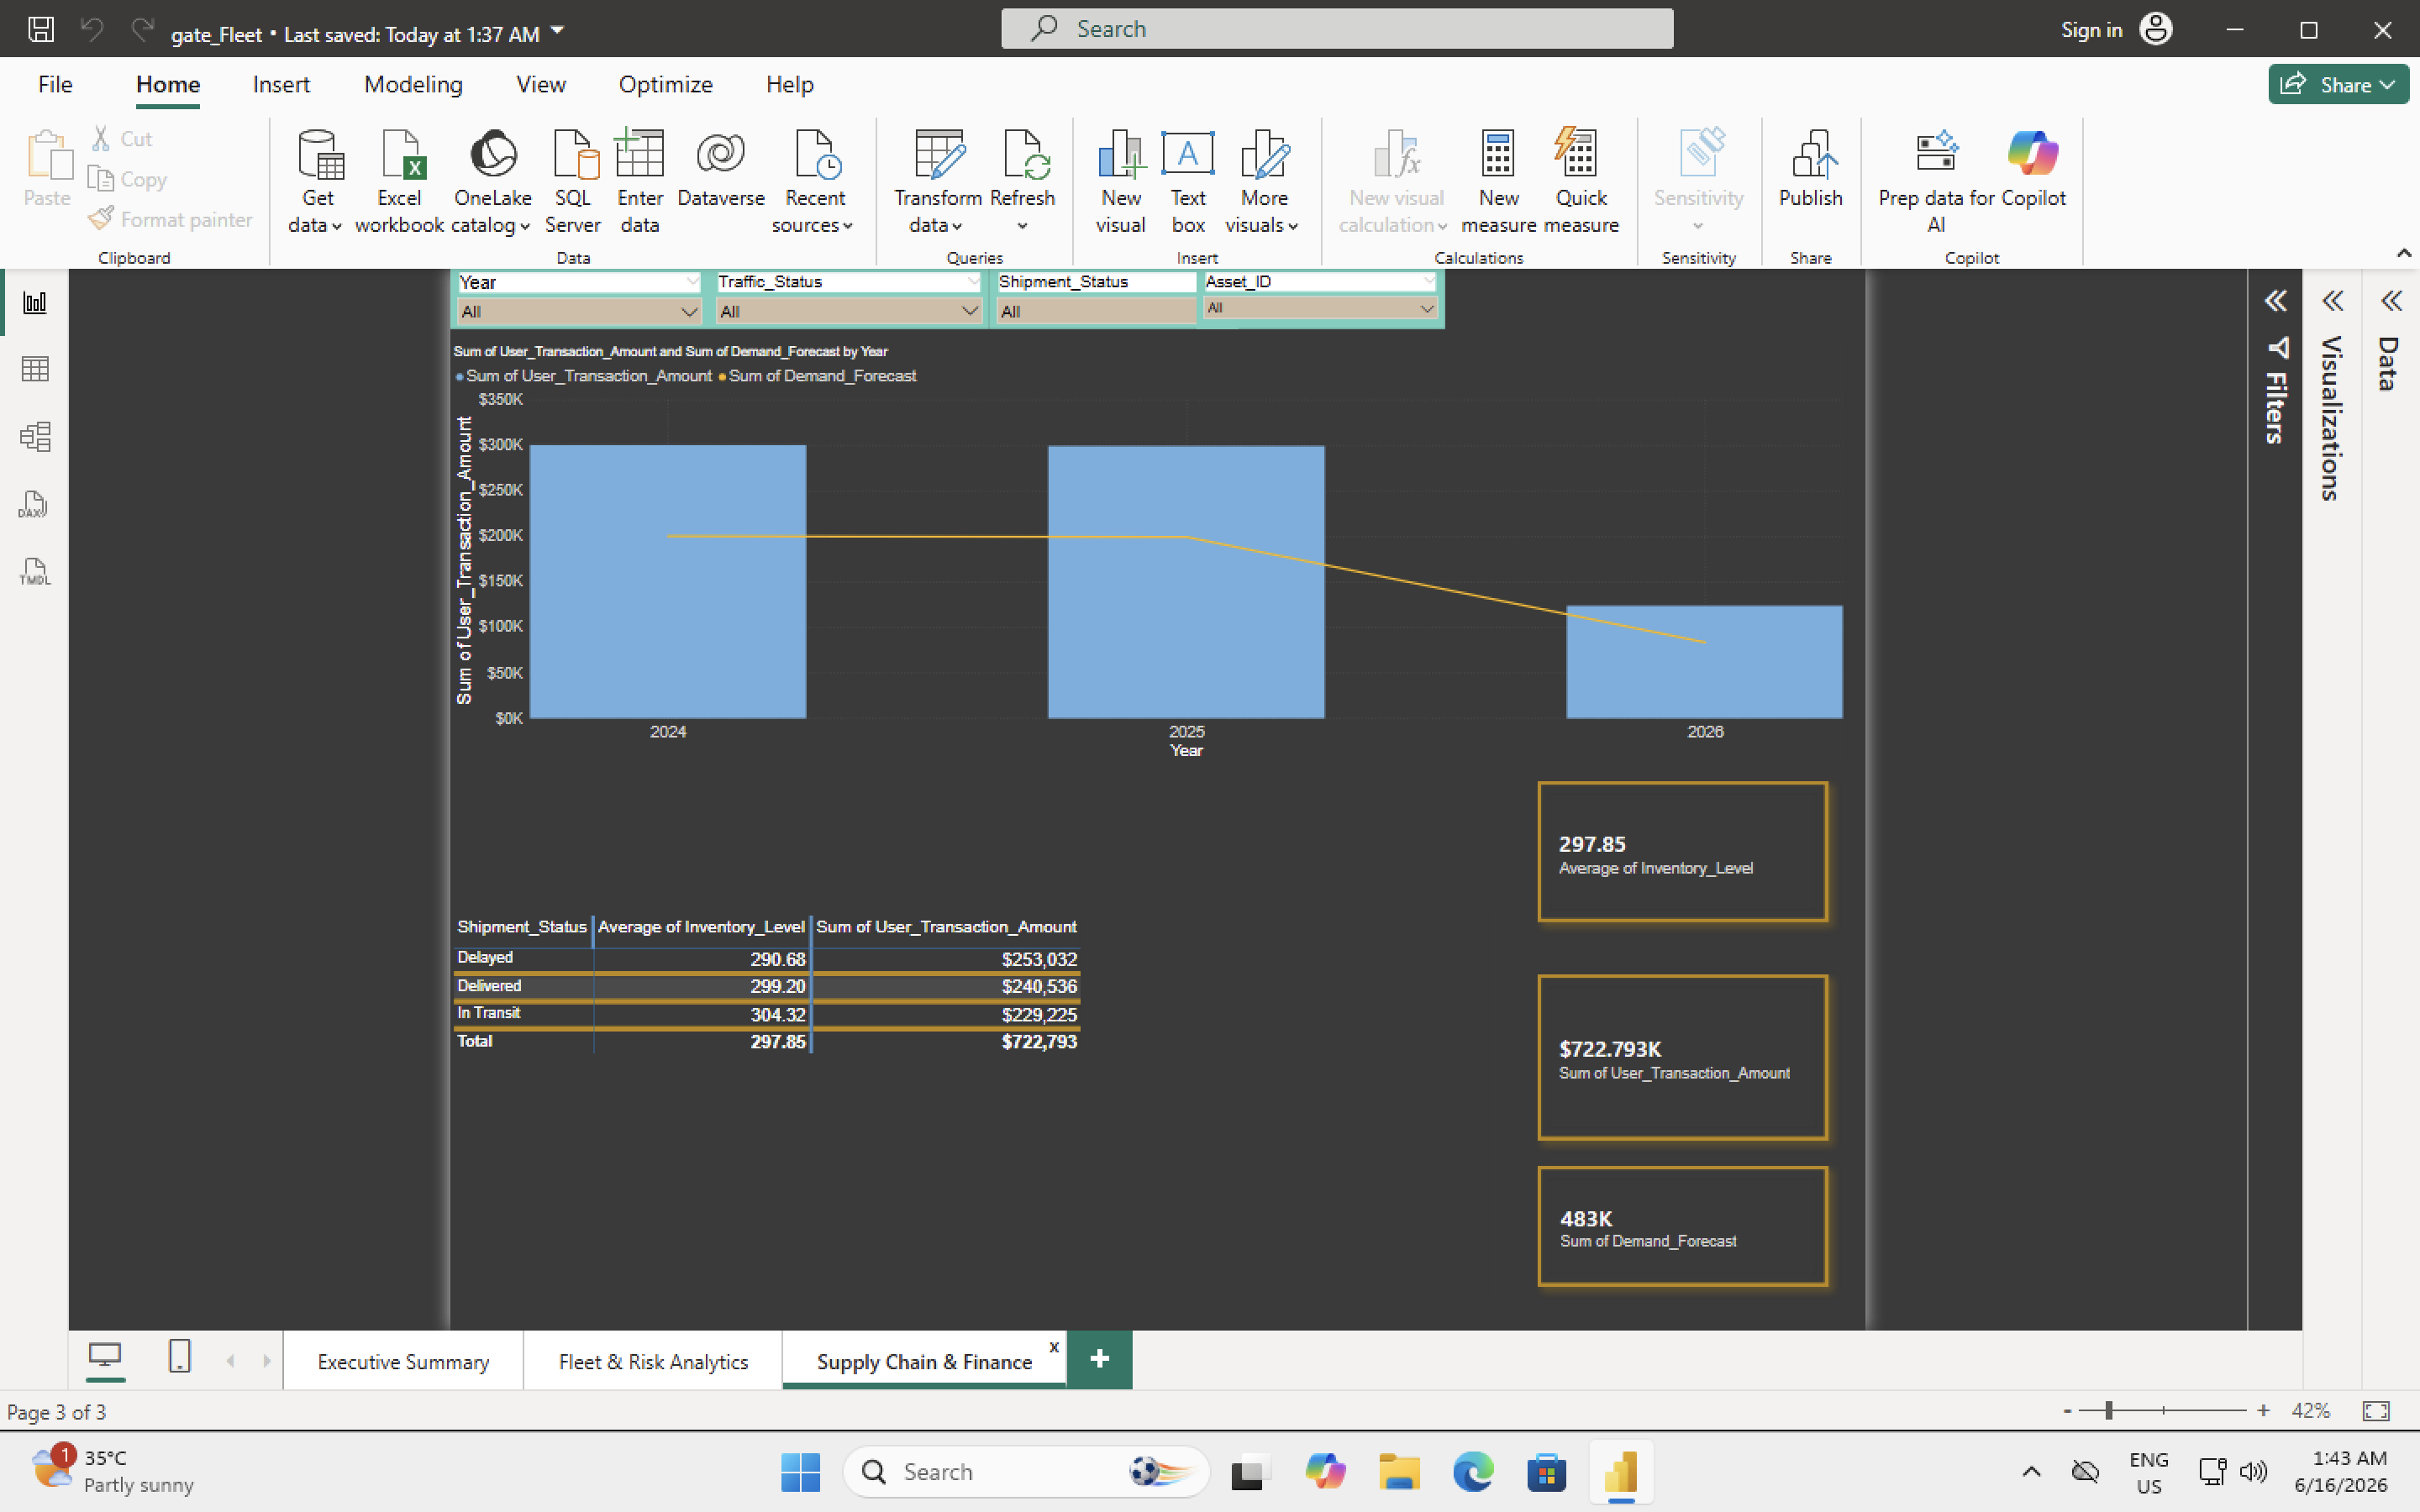

The dashboard page shown, as its layout file describes it:
{"tool":"powerbi","page":{"name":"Supply Chain & Finance","canvas":[2000,1500],"ordinal":2},"visuals":[{"type":"cardVisual","fields":{"Data":["Sum(fleet_telemetry_2024_2026.Demand_Forecast)"]},"box":[1535.6,1267.4,410.6,170.9],"z":0},{"type":"cardVisual","fields":{"Data":["Avg(fleet_telemetry_2024_2026.Inventory_Level)"]},"box":[1535.6,723.9,410.6,199.4],"z":1000},{"type":"cardVisual","fields":{"Data":["Sum(fleet_telemetry_2024_2026.User_Transaction_Amount)"]},"box":[1535.6,996.8,410.6,235],"z":2000},{"type":"lineStackedColumnComboChart","fields":{"Category":["fleet_telemetry_2024_2026.Timestamp.Variation.Date Hierarchy.Year","fleet_telemetry_2024_2026.Timestamp.Variation.Date Hierarchy.Month"],"Y":["Sum(fleet_telemetry_2024_2026.User_Transaction_Amount)"],"Y2":["Sum(fleet_telemetry_2024_2026.Demand_Forecast)"]},"box":[0,106.8,1972.3,591],"z":3000},{"type":"pivotTable","fields":{"Rows":["fleet_telemetry_2024_2026.Shipment_Status"],"Values":["Avg(fleet_telemetry_2024_2026.Inventory_Level)","Sum(fleet_telemetry_2024_2026.User_Transaction_Amount)"]},"box":[0,909,1466.8,545.9],"z":4000},{"type":"slicer","fields":{"Values":["fleet_telemetry_2024_2026.Timestamp.Variation.Date Hierarchy.Year"]},"box":[0,0,365.5,85.4],"z":5000},{"type":"slicer","fields":{"Values":["fleet_telemetry_2024_2026.Traffic_Status"]},"box":[365.5,0,396.4,85.4],"z":6000},{"type":"slicer","fields":{"Values":["fleet_telemetry_2024_2026.Shipment_Status"]},"box":[761.9,0,351.3,85.4],"z":7000},{"type":"slicer","fields":{"Values":["fleet_telemetry_2024_2026.Asset_ID"]},"box":[1052.6,0,350.9,84.6],"z":8000}]}

Visuals, with their boxes on the page's 2000x1500 design canvas (x1, y1, x2, y2). These are canvas units, not pixel positions in the 2420x1512 screenshot, which may show the page scaled, cropped or inside an application window:
cardVisual - Sum(fleet_telemetry_2024_2026.Demand_Forecast): 1536/1267/1946/1438
cardVisual - Avg(fleet_telemetry_2024_2026.Inventory_Level): 1536/724/1946/923
cardVisual - Sum(fleet_telemetry_2024_2026.User_Transaction_Amount): 1536/997/1946/1232
lineStackedColumnComboChart - fleet_telemetry_2024_2026.Timestamp.Variation.Date Hierarchy.Year x fleet_telemetry_2024_2026.Timestamp.Variation.Date Hierarchy.Month: 0/107/1972/698
pivotTable - fleet_telemetry_2024_2026.Shipment_Status x Avg(fleet_telemetry_2024_2026.Inventory_Level): 0/909/1467/1455
slicer - fleet_telemetry_2024_2026.Timestamp.Variation.Date Hierarchy.Year: 0/0/366/85
slicer - fleet_telemetry_2024_2026.Traffic_Status: 366/0/762/85
slicer - fleet_telemetry_2024_2026.Shipment_Status: 762/0/1113/85
slicer - fleet_telemetry_2024_2026.Asset_ID: 1053/0/1404/85
